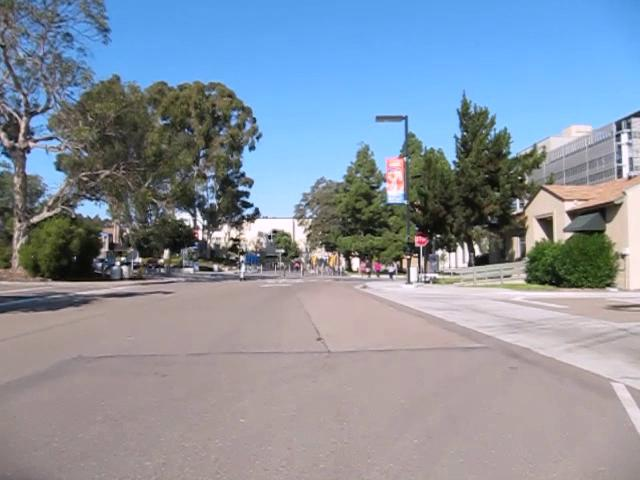stop: (413, 230, 429, 246)
